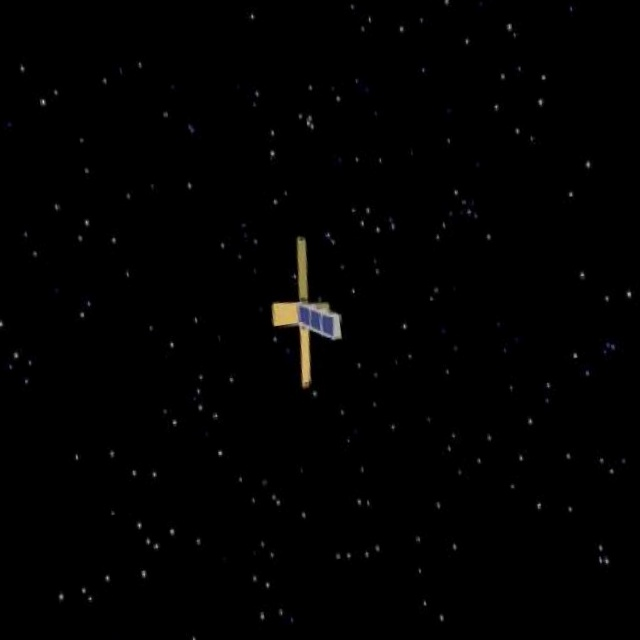satellite: (245, 224, 367, 403)
